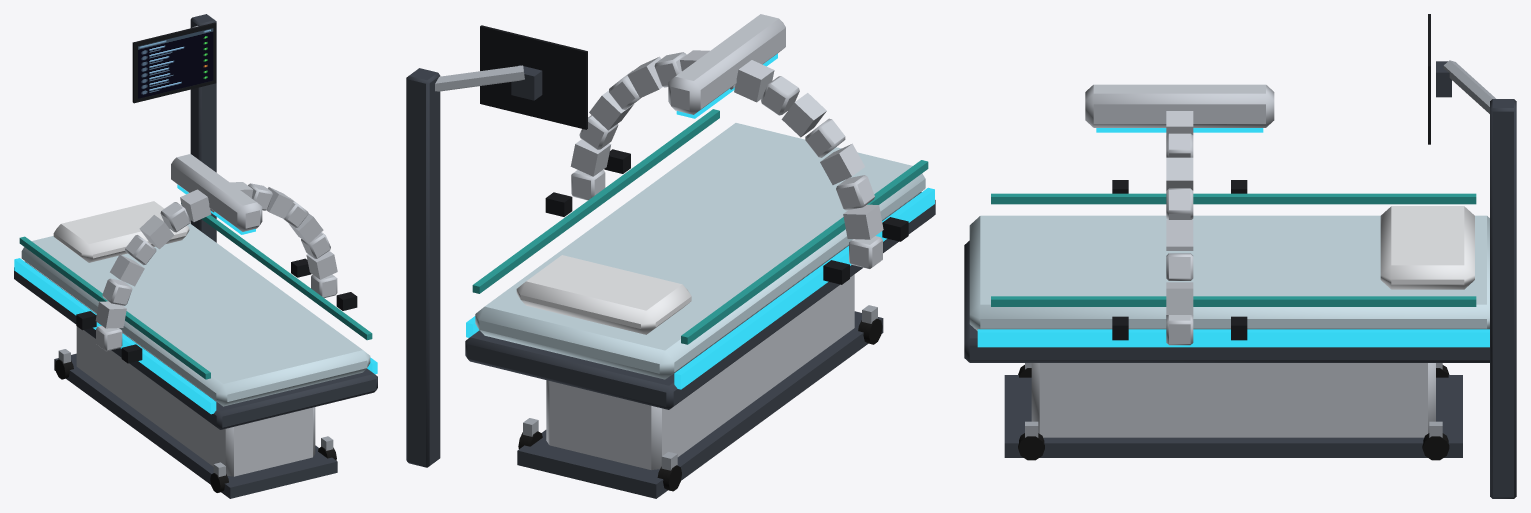
The model's file is medbed_diagnostic_biobed.glb.
The picture shows the model from 3 angles, left to right: view 1: azimuth 30°, elevation 25°; view 2: azimuth 150°, elevation 25°; view 3: azimuth 270°, elevation 25°; orthographic projection. The views are drawn at different scales.
Visible parts, largest first — view 1: medbed_diagnostic_biobed; view 2: medbed_diagnostic_biobed; view 3: medbed_diagnostic_biobed.
Part boxes in pixels (bbox=[...]): medbed_diagnostic_biobed: bbox=[14, 14, 377, 498]; medbed_diagnostic_biobed: bbox=[406, 14, 935, 498]; medbed_diagnostic_biobed: bbox=[964, 14, 1516, 498].
Bounding box in the file's own units: 1.32 × 1.71 × 2.05.
Materials: 10 (1 with a texture image).
